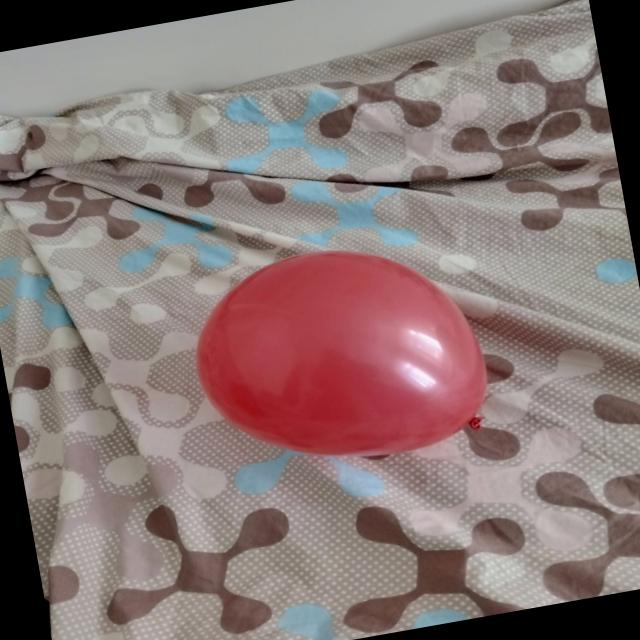balloon: (196, 250, 486, 455)
